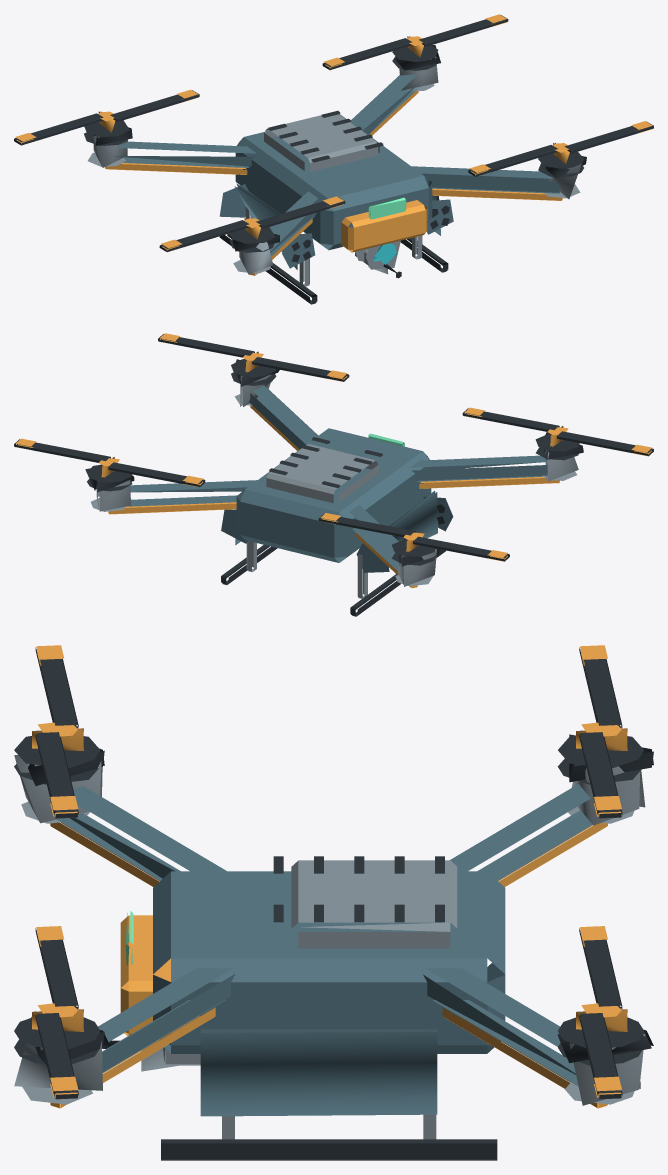
File: boss-quadcopter.glb
3 views of the same model, one above another, from view 1: azimuth 30°, elevation 25°; view 2: azimuth 150°, elevation 25°; view 3: azimuth 270°, elevation 25° (orthographic). The views are drawn at different scales.
Parts seen in each view (by area): view 1: Armored fuselage, Raised battery, Landing skid, Nose armor, Swept carbon blade, Swept carbon blade.004, Swept carbon blade.002, Swept carbon blade.006, Gimbal housing, Core, Rotor spindle, Rotor spindle.001 (+2 smaller); view 2: Armored fuselage, Raised battery, Landing skid, Nose armor, Swept carbon blade.006, Swept carbon blade, Swept carbon blade.002, Swept carbon blade.004, Rotor spindle.002, Rotor spindle.001, Rotor spindle, Rotor spindle.003; view 3: Armored fuselage, Raised battery, Landing skid, Nose armor, Swept carbon blade.002, Swept carbon blade.006, Swept carbon blade, Swept carbon blade.004, Rotor spindle.001, Rotor spindle.002, Rotor spindle.003, Rotor spindle.
Part boxes in pixels (x1,y1,x2,y2): Armored fuselage: (113,74,559,269); Raised battery: (88,56,581,286); Landing skid: (84,45,586,304); Nose armor: (105,91,562,275); Swept carbon blade: (159,197,345,252); Swept carbon blade.004: (468,121,653,176); Swept carbon blade.002: (14,90,199,145); Swept carbon blade.006: (322,15,508,70); Gimbal housing: (355,240,400,274); Core: (368,197,406,219); Rotor spindle: (161,196,343,250); Rotor spindle.001: (15,89,198,144); Armored fuselage: (126,385,547,576); Raised battery: (91,374,578,598); Landing skid: (85,359,583,616); Nose armor: (108,405,559,588); Swept carbon blade.006: (14,439,205,487); Swept carbon blade: (462,408,653,456); Swept carbon blade.002: (318,513,509,561); Swept carbon blade.004: (158,334,349,381); Rotor spindle.002: (160,333,346,381); Rotor spindle.001: (320,513,507,561); Rotor spindle: (464,407,651,455); Rotor spindle.003: (16,438,203,486); Armored fuselage: (57,784,592,1116); Raised battery: (14,755,645,1139); Landing skid: (14,734,653,1160); Nose armor: (50,822,607,1108); Swept carbon blade.002: (579,647,622,818); Swept carbon blade.006: (579,928,622,1099); Swept carbon blade: (35,647,78,818); Swept carbon blade.004: (35,928,78,1099); Rotor spindle.001: (576,645,627,816); Rotor spindle.002: (32,926,83,1097); Rotor spindle.003: (576,926,627,1097); Rotor spindle: (32,645,83,816).
Bounding box in the file's own units: 10.55 × 2.53 × 6.36.
